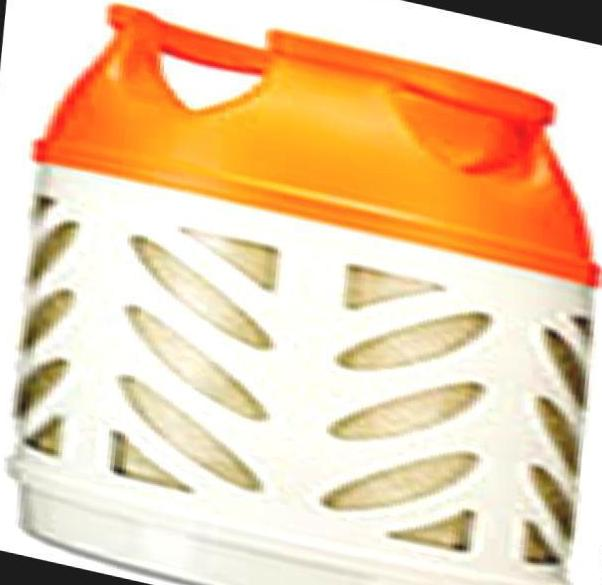cylinder: (1, 0, 602, 585)
